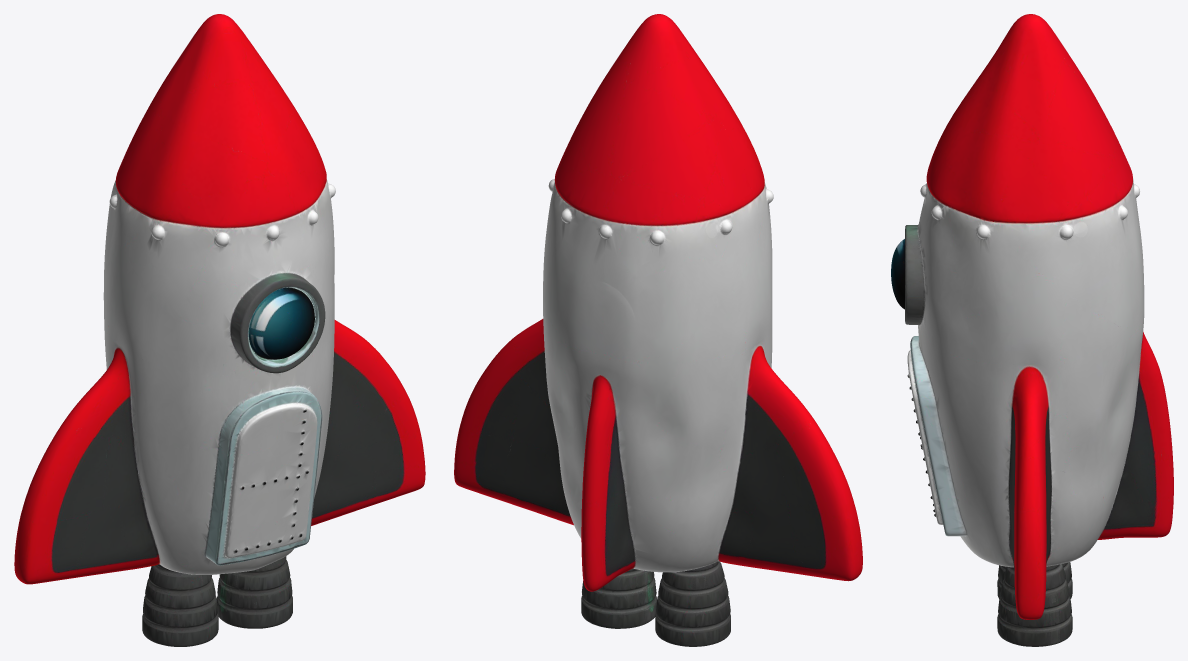
File: rocket_opt.glb
3 renders of one model, left to right at view 1: azimuth 30°, elevation 25°; view 2: azimuth 150°, elevation 25°; view 3: azimuth 270°, elevation 25°, orthographic.
Bounding box in the file's own units: 1.32 × 1.9 × 0.8132.
1 material, 1 textured.
